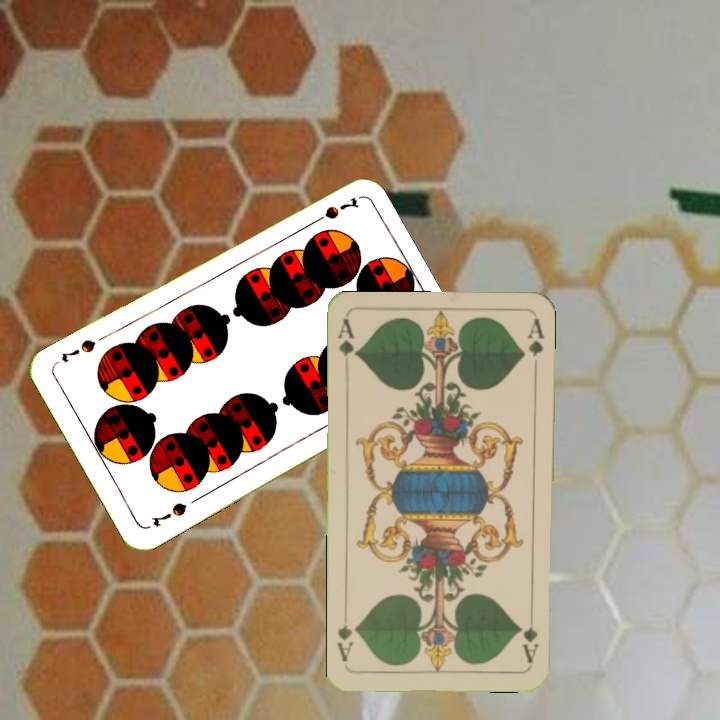GA: (519, 607, 541, 666), (334, 316, 361, 361)
S7: (305, 193, 361, 228), (146, 498, 190, 530)
